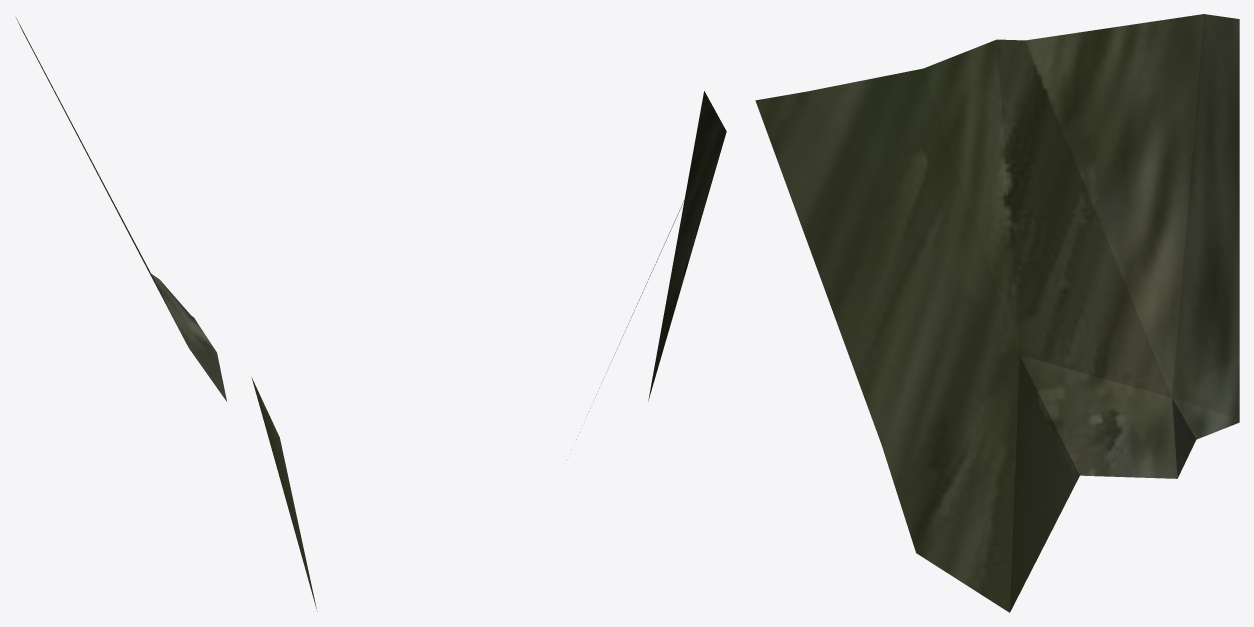
The picture shows the model from 3 angles, left to right: view 1: azimuth 30°, elevation 25°; view 2: azimuth 150°, elevation 25°; view 3: azimuth 270°, elevation 25°; orthographic projection. The views are drawn at different scales.
Size of the model in its own units: 0.616 by 1.7 by 1.46.
1 material, 1 textured.
